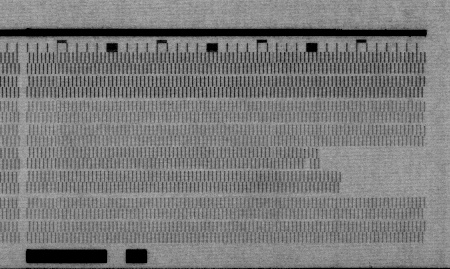Broken hole: (338, 146, 430, 199), (316, 148, 430, 172), (300, 159, 313, 170)
